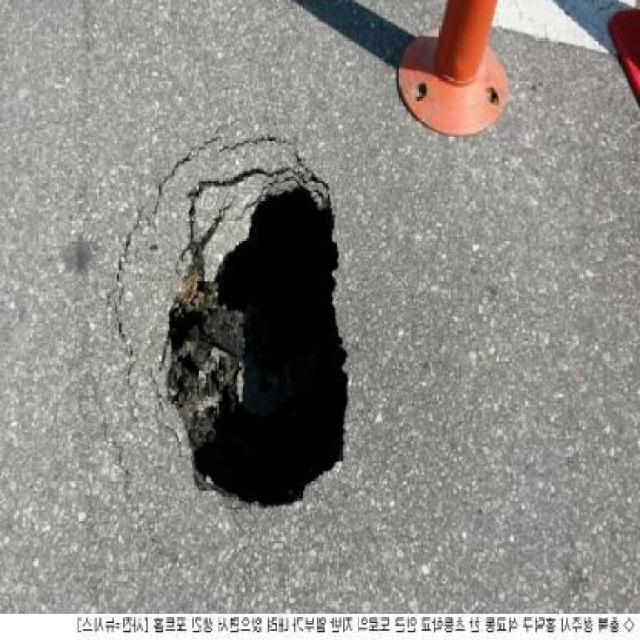pothole: (162, 139, 361, 530)
